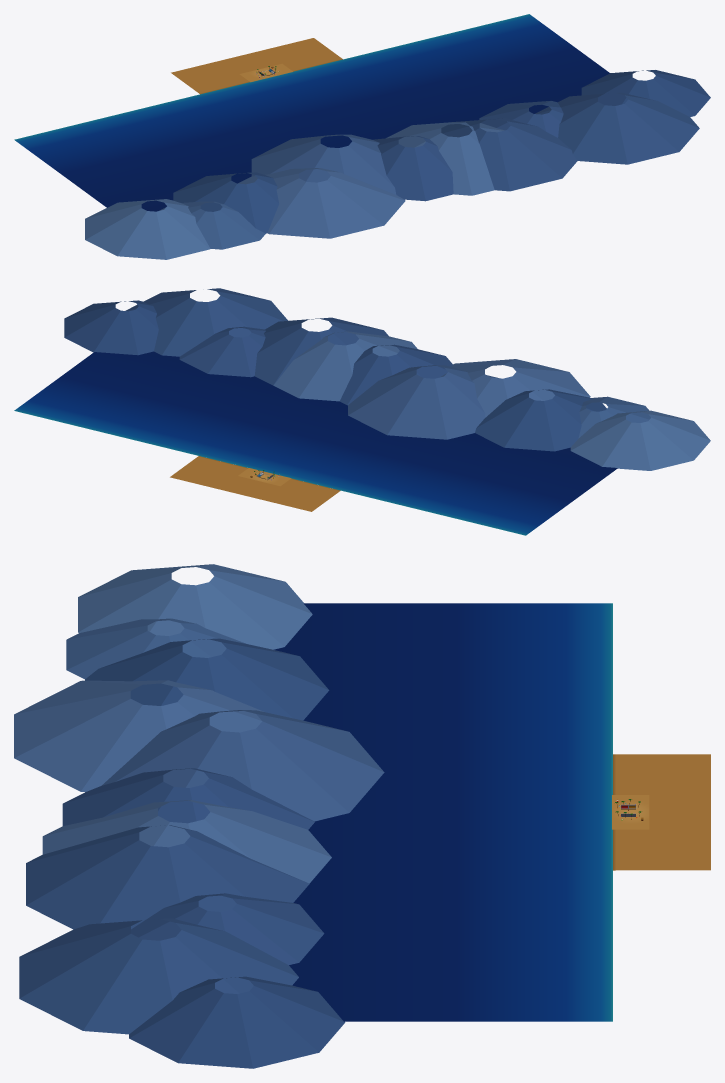
Rendered from Beach.fbx.
3 views of the same model, one above another, from view 1: azimuth 30°, elevation 25°; view 2: azimuth 150°, elevation 25°; view 3: azimuth 270°, elevation 25° (orthographic). The views are drawn at different scales.
Parts seen in each view (by area): view 1: Structure, Water, Ground; view 2: Structure, Water, Ground; view 3: Structure, Water, Ground.
Boxes of the visible parts, x1,y1,x2,y2 form: Structure: [85, 66, 710, 259]; Water: [14, 14, 609, 211]; Ground: [171, 38, 342, 94]; Structure: [64, 288, 710, 479]; Water: [14, 351, 617, 535]; Ground: [170, 456, 340, 511]; Structure: [14, 564, 643, 1068]; Water: [274, 603, 612, 1021]; Ground: [612, 754, 710, 870].
Bounding box in the file's own units: 1738 × 83.06 × 1015.
